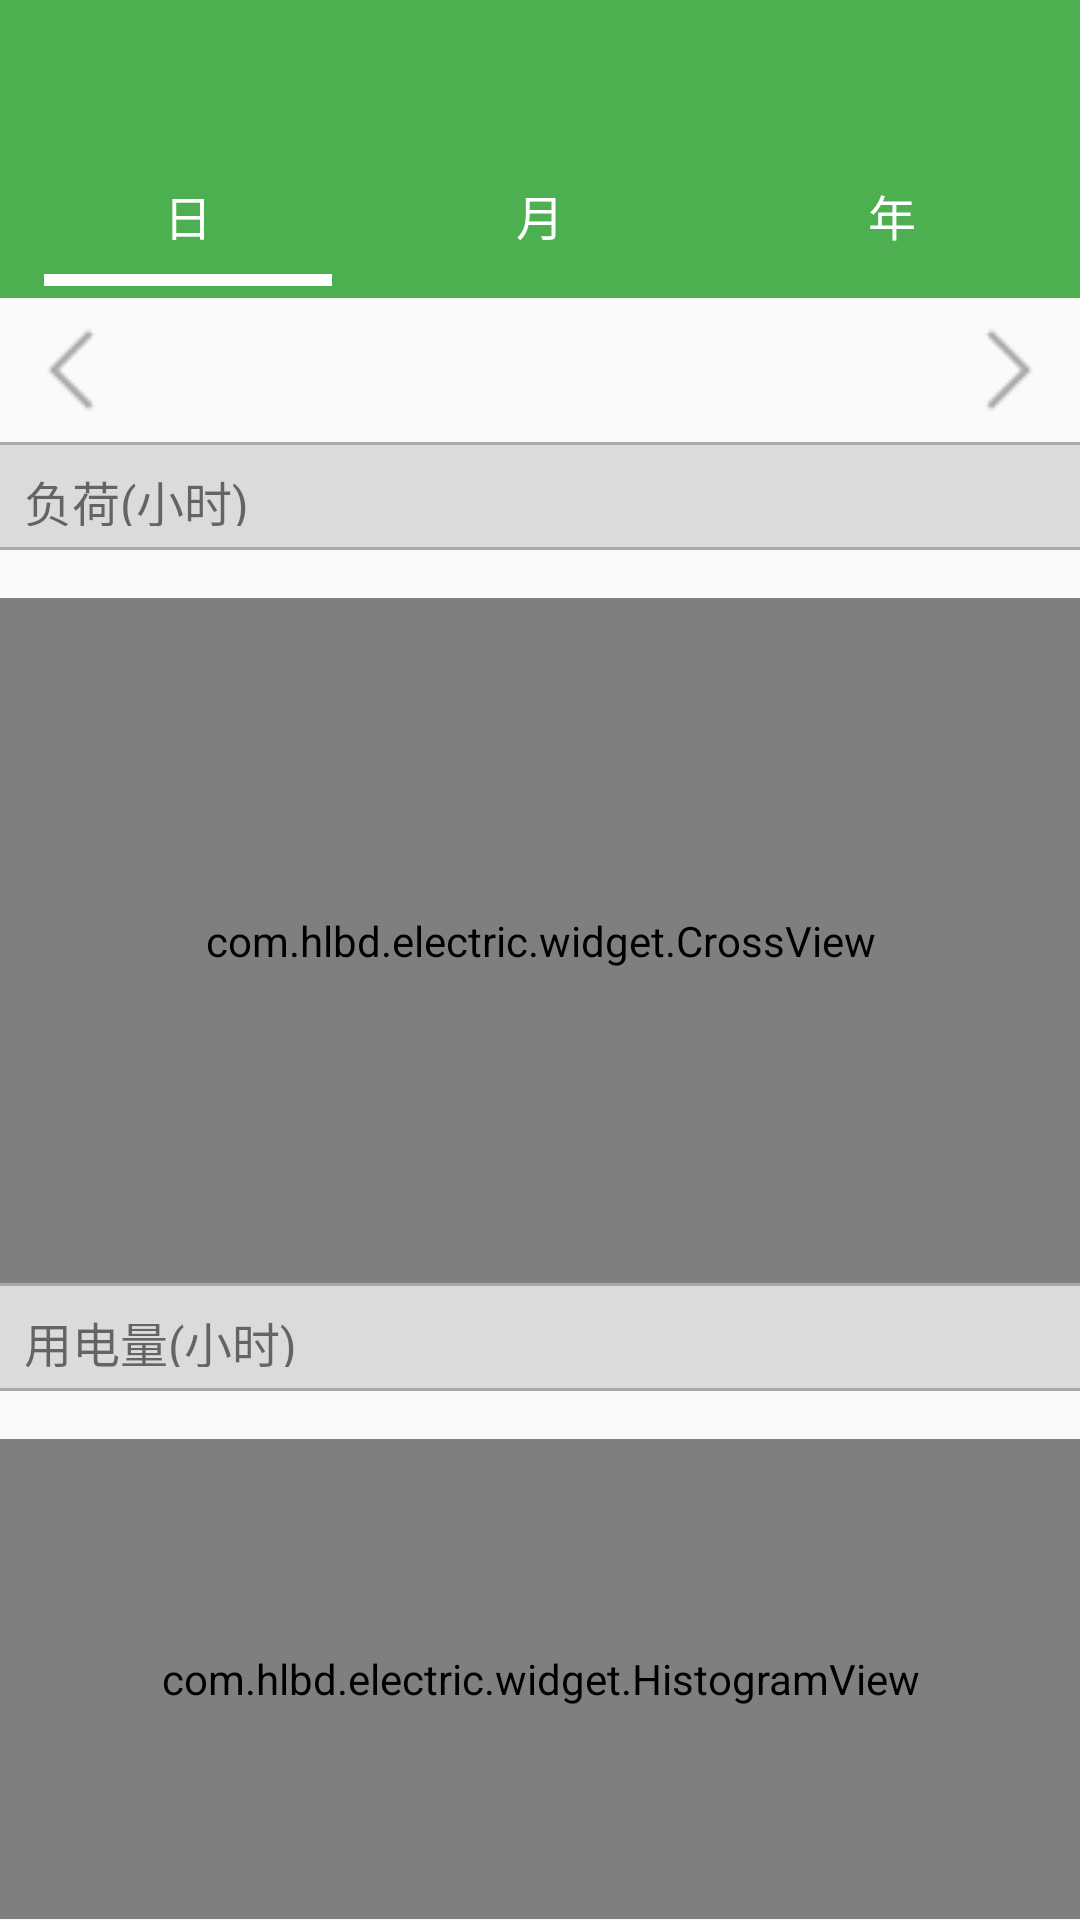

Named icons in this screenshot (1080 × 1920) and their bounding boxes, [left=x1, top=y1, right=x2, bottom=y2]:
left: [left=50, top=331, right=93, bottom=409]
right: [left=987, top=331, right=1030, bottom=409]
